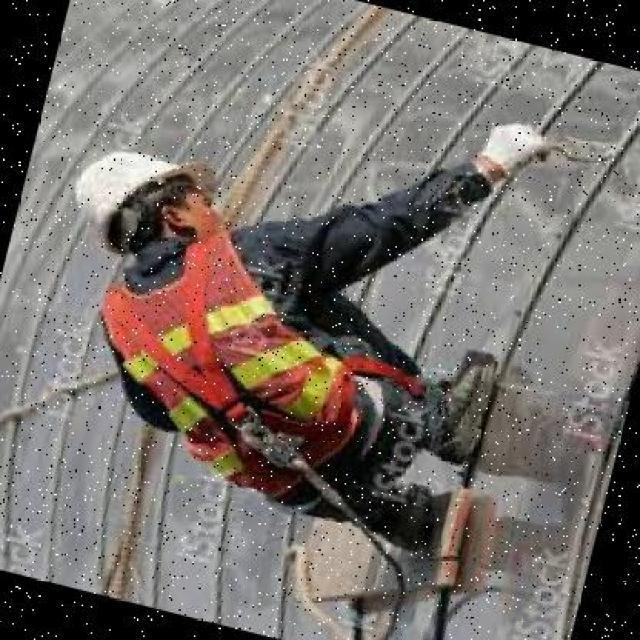Arnes_seguridad: (67, 214, 452, 507)
